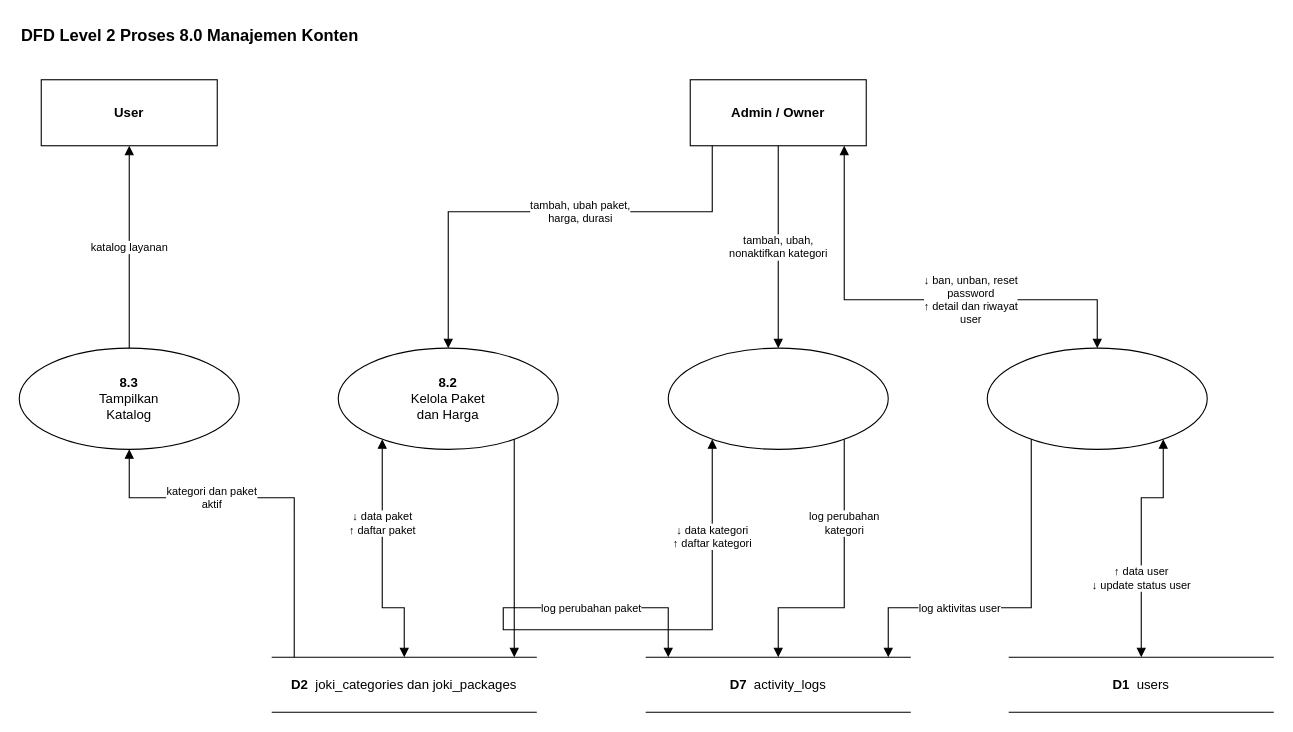
Image size: 1293x732. Some labels were removed from this diagram. Here are the shapes that lost their labels. From the top down, the centre of each, then its label:
At (x=777, y=398): "8.1 Kelola Kategori".
At (x=1096, y=398): "8.4 Kelola User".
